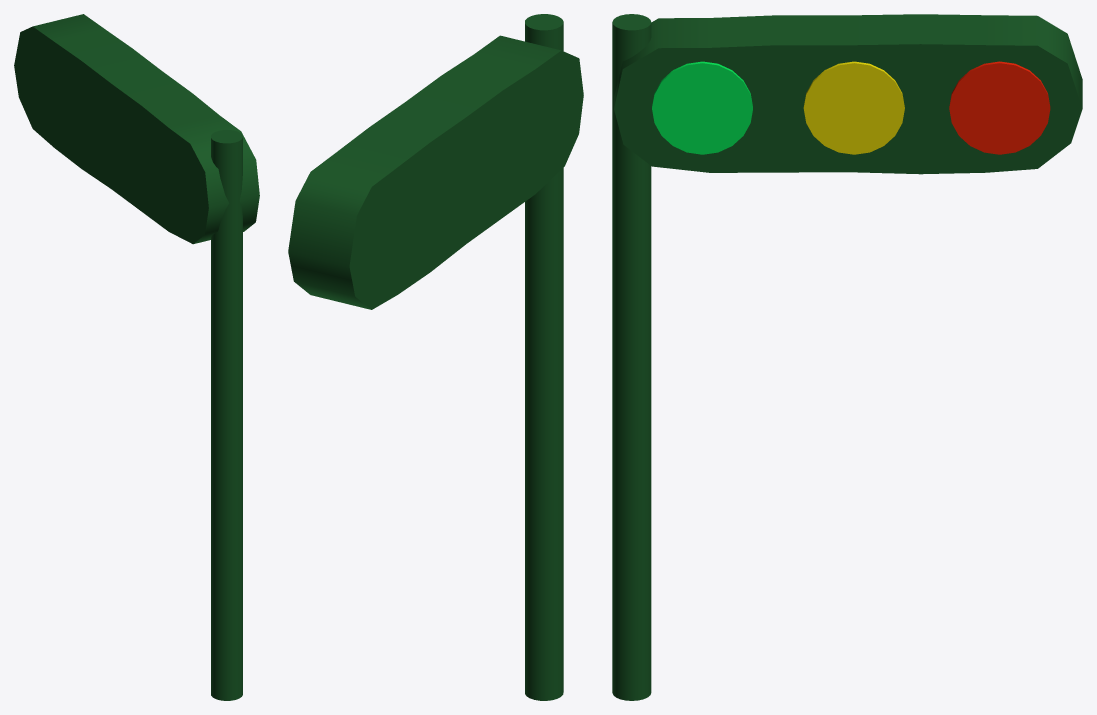
Rendered from TrafficLight.fbx.
3 renders of one model, left to right at view 1: azimuth 30°, elevation 25°; view 2: azimuth 150°, elevation 25°; view 3: azimuth 270°, elevation 25°, orthographic. The views are drawn at different scales.
Parts seen in each view (by area): view 1: pCylinder4; view 2: pCylinder4; view 3: pCylinder4.
Boxes of the visible parts, x1=… form: pCylinder4: x1=14, y1=14, x2=259, y2=700; pCylinder4: x1=288, y1=14, x2=583, y2=700; pCylinder4: x1=612, y1=14, x2=1082, y2=700.
Bounding box in the file's own units: 27.32 × 271 × 172.
